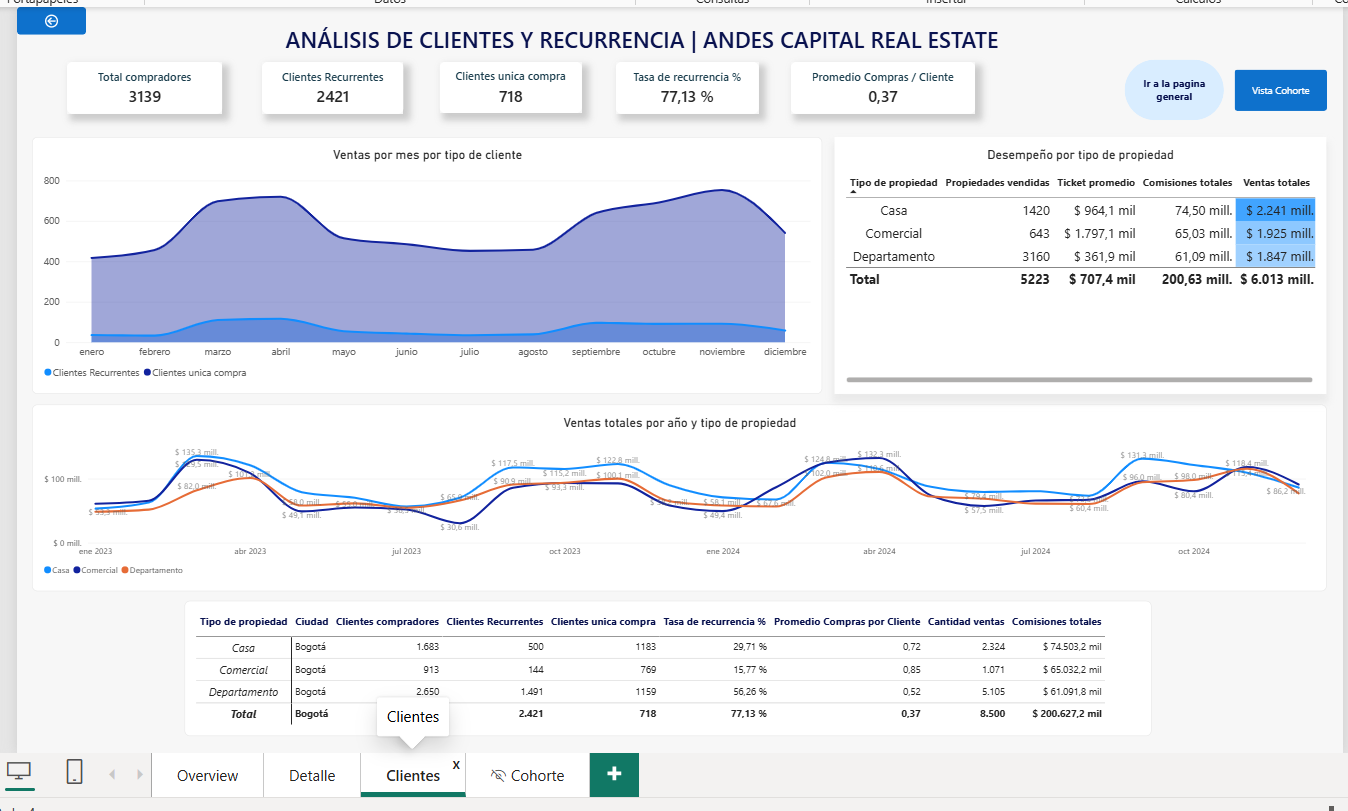

The dashboard page shown, as its layout file describes it:
{"tool":"powerbi","page":{"name":"Clientes","canvas":[1920,1080],"ordinal":2},"visuals":[{"type":"cardVisual","fields":{"Data":["hecho_ventas_propiedades csv.Clientes compradores"]},"box":[72,80,225,75],"z":0},{"type":"cardVisual","fields":{"Data":["hecho_ventas_propiedades csv.Tasa de recurrencia %"]},"box":[866.8,79.6,207.5,75],"z":1000},{"type":"cardVisual","fields":{"Data":["hecho_ventas_propiedades csv.Clientes Recurrentes"]},"box":[354.7,79.6,205,75],"z":2000},{"type":"cardVisual","fields":{"Data":["hecho_ventas_propiedades csv.Clientes unica compra"]},"box":[611.7,79.6,206.3,74.2],"z":3000},{"type":"cardVisual","fields":{"Data":["hecho_ventas_propiedades csv.Promedio Compras por Cliente"]},"box":[1120.2,79.6,267.5,75],"z":4000},{"type":"textbox","box":[335,25,1140,70],"z":5000},{"type":"areaChart","title":"Ventas por mes por tipo de cliente","fields":{"Category":["Dim_Fecha.Date.Variación.Jerarquía de fechas.Mes"],"Y":["hecho_ventas_propiedades csv.Clientes Recurrentes","hecho_ventas_propiedades csv.Clientes unica compra"]},"box":[21.7,188.2,1144,372],"z":6000},{"type":"pivotTable","fields":{"Rows":["hecho_ventas_propiedades csv.tipo_propiedad"],"Values":["Min(hecho_ventas_propiedades csv.ciudad)","Min(hecho_ventas_propiedades csv.canal_venta)","hecho_ventas_propiedades csv.Clientes compradores","hecho_ventas_propiedades csv.Clientes Recurrentes","hecho_ventas_propiedades csv.Clientes unica compra","hecho_ventas_propiedades csv.Tasa de recurrencia %","hecho_ventas_propiedades csv.Promedio Compras por Cliente","hecho_ventas_propiedades csv.Cantidad ventas","hecho_ventas_propiedades csv.Comisiones totales"]},"box":[177.3,861.4,1587.1,197.3],"z":7000},{"type":"lineChart","title":"Ventas totales por año y tipo de propiedad","fields":{"Category":["Dim_Fecha.Date.Variación.Jerarquía de fechas.Año","Dim_Fecha.Date.Variación.Jerarquía de fechas.Mes"],"Series":["hecho_ventas_propiedades csv.tipo_propiedad"],"Y":["hecho_ventas_propiedades csv.Ventas totales"]},"box":[22,576,1874,270],"z":8000},{"type":"tableEx","title":"Desempeño por tipo de propiedad","fields":{"Values":["dim_propiedades csv.tipo_propiedad","hecho_ventas_propiedades csv.Propiedades vendidas","hecho_ventas_propiedades csv.Ticket promedio","hecho_ventas_propiedades csv.Comisiones totales","hecho_ventas_propiedades csv.Ventas totales"]},"box":[1184,188,712,372],"z":9000},{"type":"actionButton","box":[0,0,100,40],"z":10000},{"type":"actionButton","box":[1604,76,144,88],"z":11000},{"type":"actionButton","box":[1762,90,134,60],"z":11001}]}

Visuals, with their boxes on the page's 1920x1080 design canvas (x1, y1, x2, y2). These are canvas units, not pixel positions in the 1348x811 screenshot, which may show the page scaled, cropped or inside an application window:
cardVisual - hecho_ventas_propiedades csv.Clientes compradores: {"x1": 72, "y1": 80, "x2": 297, "y2": 155}
cardVisual - hecho_ventas_propiedades csv.Tasa de recurrencia %: {"x1": 867, "y1": 80, "x2": 1074, "y2": 155}
cardVisual - hecho_ventas_propiedades csv.Clientes Recurrentes: {"x1": 355, "y1": 80, "x2": 560, "y2": 155}
cardVisual - hecho_ventas_propiedades csv.Clientes unica compra: {"x1": 612, "y1": 80, "x2": 818, "y2": 154}
cardVisual - hecho_ventas_propiedades csv.Promedio Compras por Cliente: {"x1": 1120, "y1": 80, "x2": 1388, "y2": 155}
textbox: {"x1": 335, "y1": 25, "x2": 1475, "y2": 95}
"Ventas por mes por tipo de cliente" areaChart: {"x1": 22, "y1": 188, "x2": 1166, "y2": 560}
pivotTable - hecho_ventas_propiedades csv.tipo_propiedad x Min(hecho_ventas_propiedades csv.ciudad): {"x1": 177, "y1": 861, "x2": 1764, "y2": 1059}
"Ventas totales por año y tipo de propiedad" lineChart: {"x1": 22, "y1": 576, "x2": 1896, "y2": 846}
"Desempeño por tipo de propiedad" tableEx: {"x1": 1184, "y1": 188, "x2": 1896, "y2": 560}
actionButton: {"x1": 0, "y1": 0, "x2": 100, "y2": 40}
actionButton: {"x1": 1604, "y1": 76, "x2": 1748, "y2": 164}
actionButton: {"x1": 1762, "y1": 90, "x2": 1896, "y2": 150}
